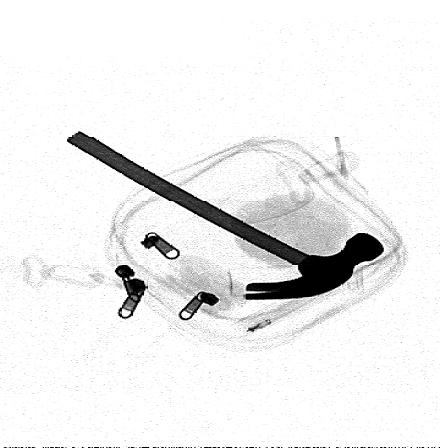Hammer: (65, 130, 384, 300)
